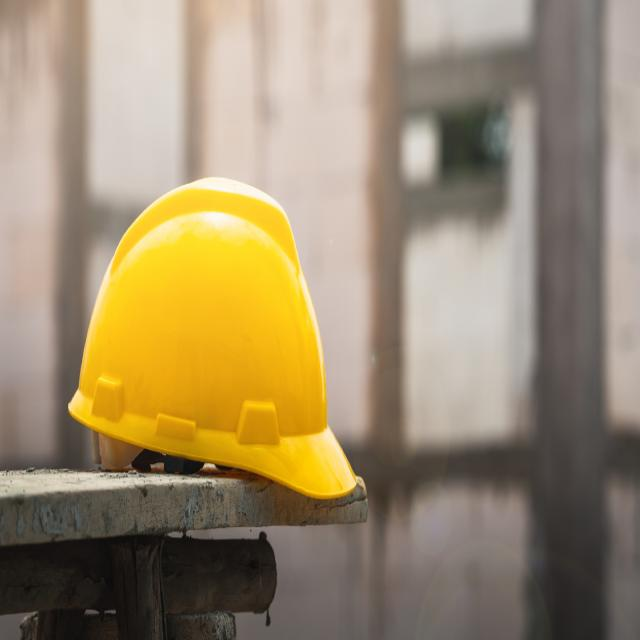Safety-Helmet: (66, 177, 372, 520), (402, 531, 583, 640)
